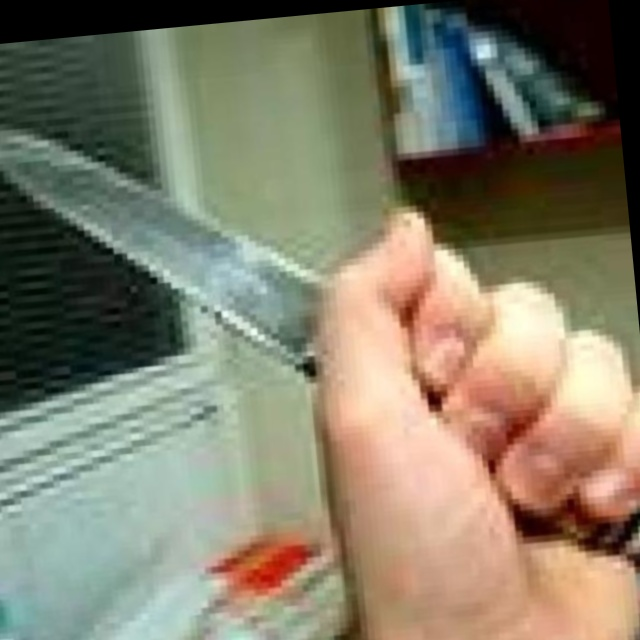Sharp-Object: (0, 72, 640, 622)
